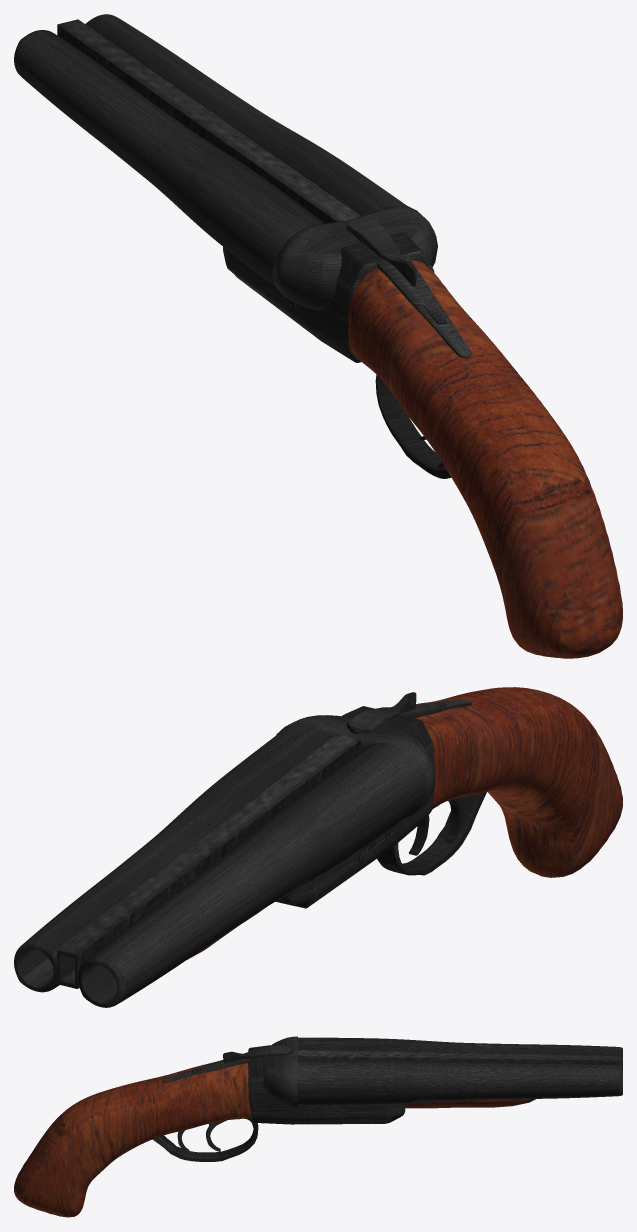
The model's file is shotgun.glb.
3 renders of one model, top to bottom at view 1: azimuth 30°, elevation 25°; view 2: azimuth 150°, elevation 25°; view 3: azimuth 270°, elevation 25°, orthographic. The views are drawn at different scales.
Visible parts, largest first — view 1: Cube.001, Cylinder.003, Cube, Sphere, object 1, Cube.003, Cube.006, Cube.007; view 2: Cylinder.003, Cube.001, Cube, object 1, Sphere, Cube.003, Cube.007, Cube.006, Cube.004; view 3: Cylinder.003, Cube.001, object 1, Cube, Sphere, Cube.003, Sphere.001, Cube.007, Cube.006.
Boxes of the visible parts, x1,y1,x2,y2 form: Cube.001: (348,260,622,658); Cylinder.003: (14,14,406,287); Cube: (57,19,361,223); Sphere: (272,205,437,310); object 1: (223,232,434,362); Cube.003: (375,374,451,478); Cube.006: (376,254,471,358); Cube.007: (346,218,416,286); Cylinder.003: (14,723,423,1007); Cube.001: (415,687,622,877); Cube: (57,734,361,988); object 1: (276,706,435,908); Sphere: (276,715,435,818); Cube.003: (377,792,486,875); Cube.007: (346,692,416,733); Cube.006: (400,699,471,718); Cube.004: (445,798,462,843); Cylinder.003: (298,1037,622,1105); Cube.001: (14,1060,251,1217); object 1: (248,1045,405,1124); Cube: (298,1049,622,1069); Sphere: (263,1036,297,1107); Cube.003: (152,1117,258,1161); Sphere.001: (405,1099,535,1108); Cube.007: (223,1045,293,1063); Cube.006: (163,1051,249,1082).
Size of the model in its own units: 0.1708 by 0.2998 by 0.996.
2 materials, 2 textured.
